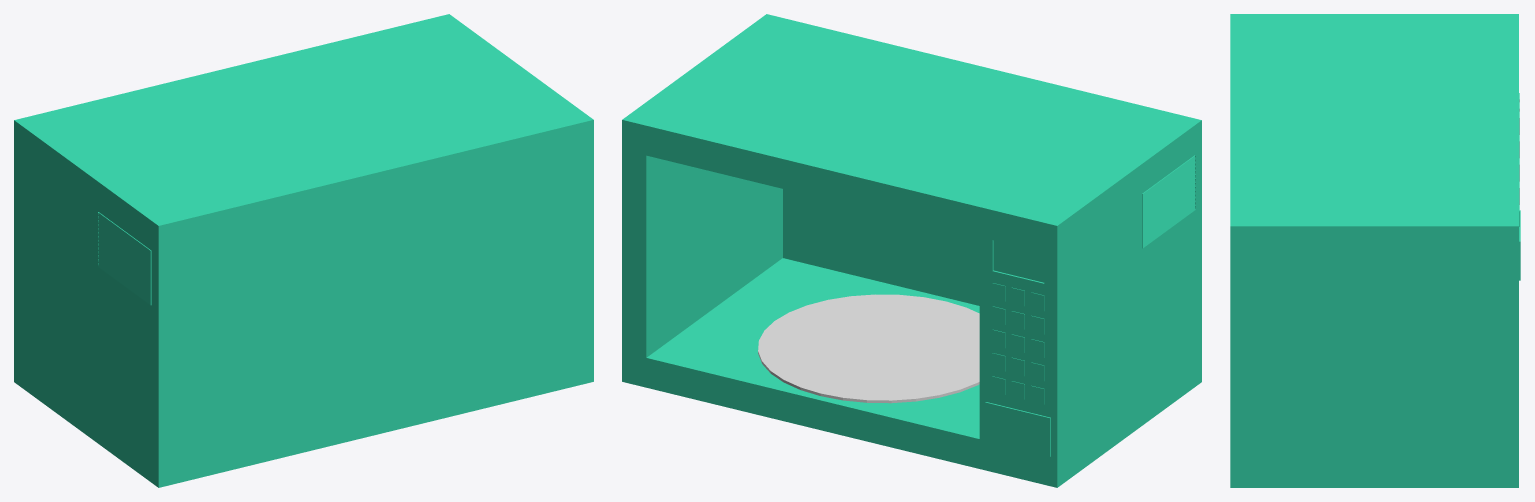
The model's file is microwave.fbx.
3 views of the same model, side by side, from view 1: azimuth 30°, elevation 25°; view 2: azimuth 150°, elevation 25°; view 3: azimuth 270°, elevation 25° (orthographic).
Parts seen in each view (by area): view 1: Cube; view 2: Cube, Cylinder.004; view 3: Cube.
Boxes of the visible parts, x1=… form: Cube: x1=14, y1=14, x2=593, y2=487; Cube: x1=622, y1=14, x2=1201, y2=487; Cylinder.004: x1=758, y1=294, x2=979, y2=403; Cube: x1=1230, y1=14, x2=1520, y2=487.
Bounding box in the file's own units: 348 × 204 × 201.
